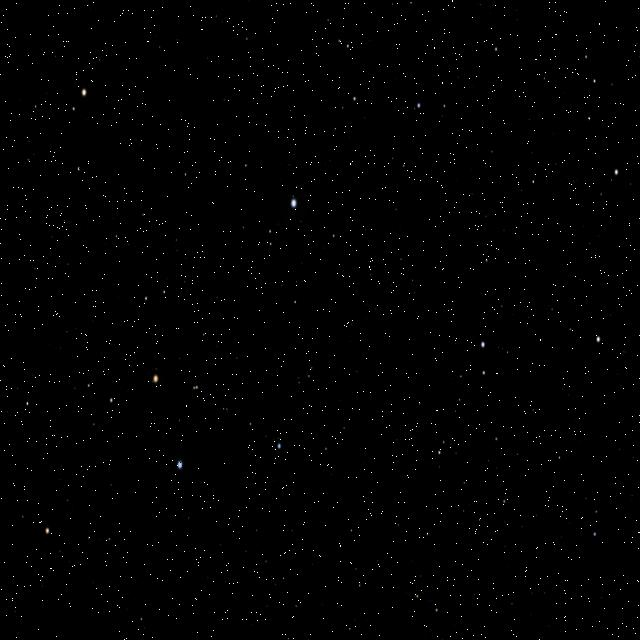Piscis Austrinus: (260, 189, 370, 438)
